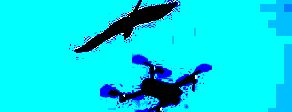Bird: (72, 0, 180, 54)
Drone: (100, 52, 214, 110)
